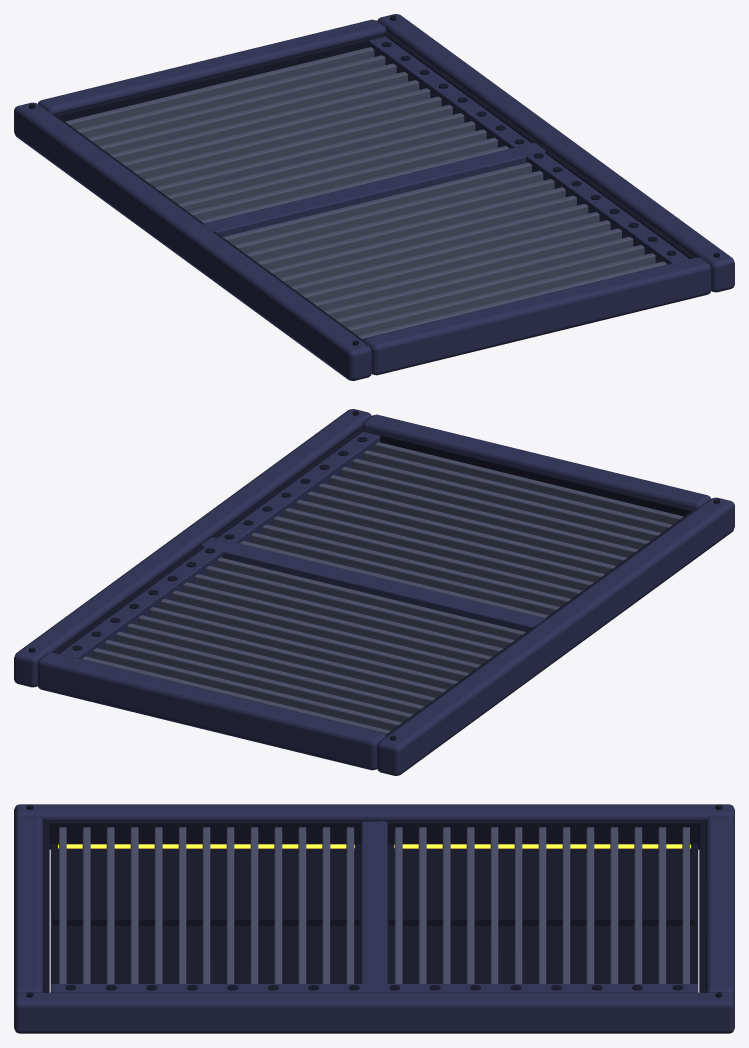
The model's file is roof.vent.w2.d3.glb.
3 views of the same model, one above another, from view 1: azimuth 30°, elevation 25°; view 2: azimuth 150°, elevation 25°; view 3: azimuth 270°, elevation 25° (orthographic). The views are drawn at different scales.
Parts seen in each view (by area): view 1: roof.vent.w2.d3; view 2: roof.vent.w2.d3; view 3: roof.vent.w2.d3.
Boxes of the visible parts, <box> form: roof.vent.w2.d3: <box>14,14,734,380</box>; roof.vent.w2.d3: <box>14,409,734,775</box>; roof.vent.w2.d3: <box>14,804,734,1033</box>.
Size of the model in its own units: 1.94 by 0.161 by 2.94.
